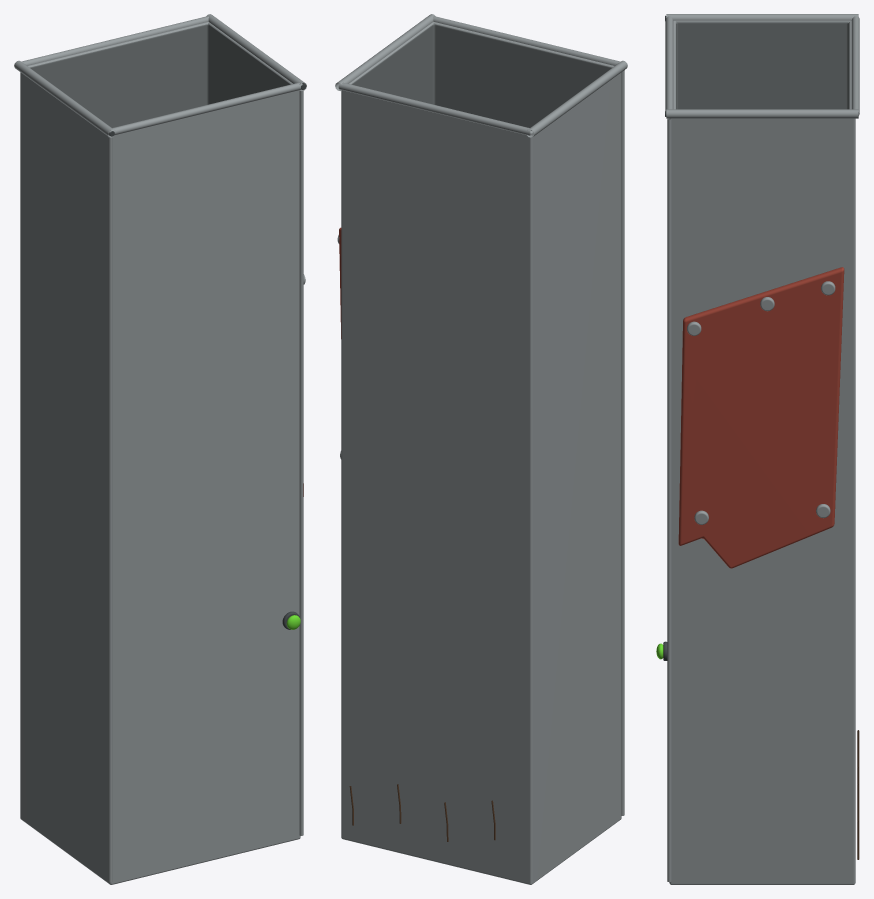
The model's file is ShoulderChute(Mortar).fbx.
3 views of the same model, side by side, from view 1: azimuth 30°, elevation 25°; view 2: azimuth 150°, elevation 25°; view 3: azimuth 270°, elevation 25° (orthographic). The views are drawn at different scales.
Parts seen in each view (by area): view 1: Open rectangular steel chute, Folded vertical corner seam, Folded vertical corner seam.001, Rolled cross top edge, Rolled cross top edge.001, Rolled side top edge, Rolled side top edge.001; view 2: Open rectangular steel chute, Folded vertical corner seam, Rolled cross top edge.001, Rolled cross top edge, Rolled side top edge, Rolled side top edge.001; view 3: Open rectangular steel chute, Red side reinforcing patch, Folded vertical corner seam.001, Rolled side top edge.001, Rolled side top edge, Rolled cross top edge.001, Rolled cross top edge.
Boxes of the visible parts, left/top/right/bottom form: Open rectangular steel chute: left=20, top=21, right=300, bottom=884; Folded vertical corner seam: left=108, top=137, right=112, bottom=882; Folded vertical corner seam.001: left=299, top=91, right=303, bottom=835; Rolled cross top edge: left=108, top=82, right=302, bottom=135; Rolled cross top edge.001: left=21, top=16, right=208, bottom=65; Rolled side top edge: left=14, top=60, right=114, bottom=137; Rolled side top edge.001: left=206, top=14, right=306, bottom=90; Open rectangular steel chute: left=341, top=21, right=621, bottom=884; Folded vertical corner seam: left=621, top=70, right=624, bottom=815; Rolled cross top edge.001: left=338, top=82, right=533, bottom=136; Rolled cross top edge: left=433, top=16, right=620, bottom=65; Rolled side top edge: left=527, top=60, right=627, bottom=137; Rolled side top edge.001: left=335, top=14, right=435, bottom=90; Open rectangular steel chute: left=669, top=20, right=855, bottom=884; Red side reinforcing patch: left=678, top=267, right=844, bottom=568; Folded vertical corner seam.001: left=667, top=118, right=671, bottom=882; Rolled side top edge.001: left=666, top=109, right=858, bottom=118; Rolled side top edge: left=666, top=14, right=858, bottom=20; Rolled cross top edge.001: left=851, top=16, right=859, bottom=115; Rolled cross top edge: left=665, top=16, right=673, bottom=111.
Bounding box in the file's own units: 99.25 × 345 × 81.84.
